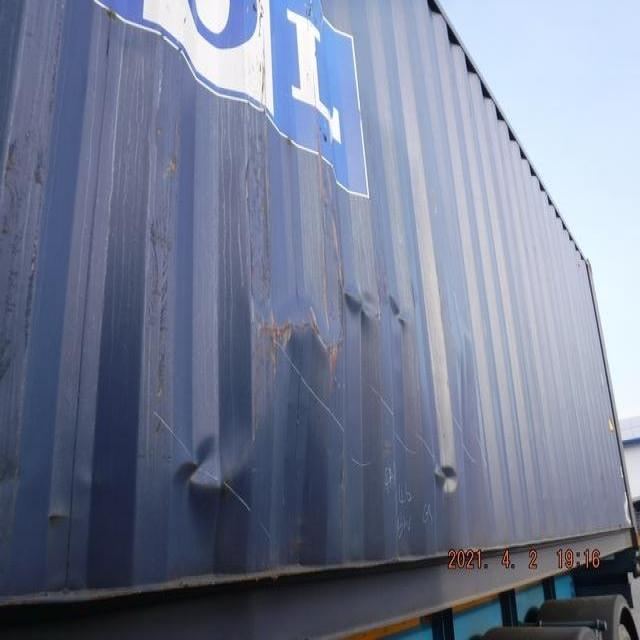dent: (135, 245, 495, 528)
